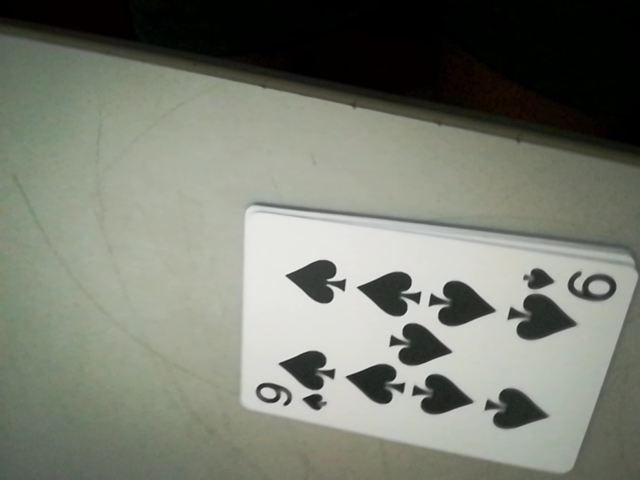ht 9: (516, 260, 627, 303), (249, 378, 334, 419)
